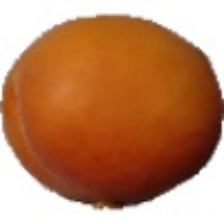apricot: (18, 38, 219, 219)
